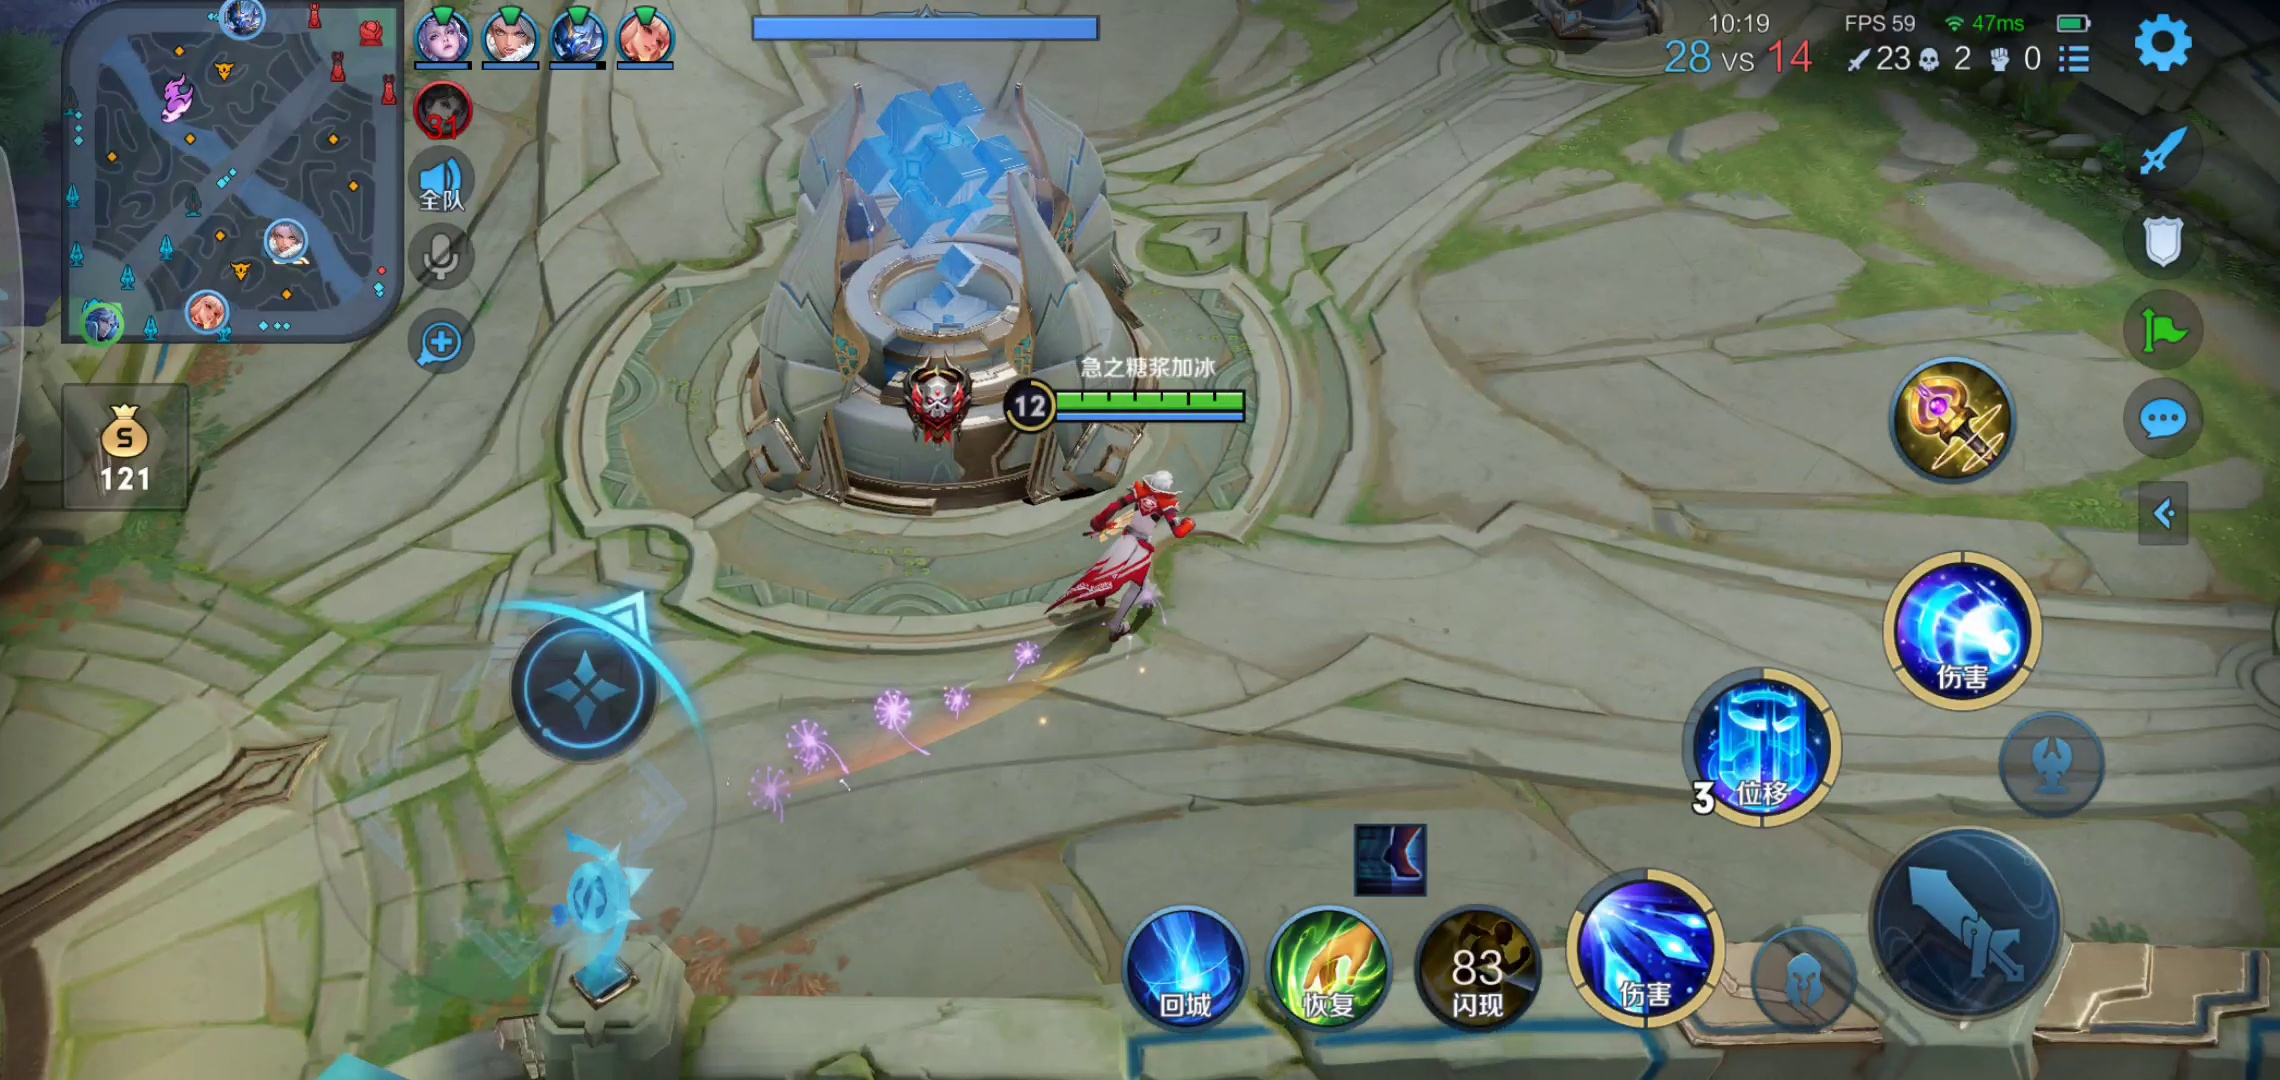crystal: (744, 109, 1173, 499)
hero: (1024, 470, 1221, 638)
